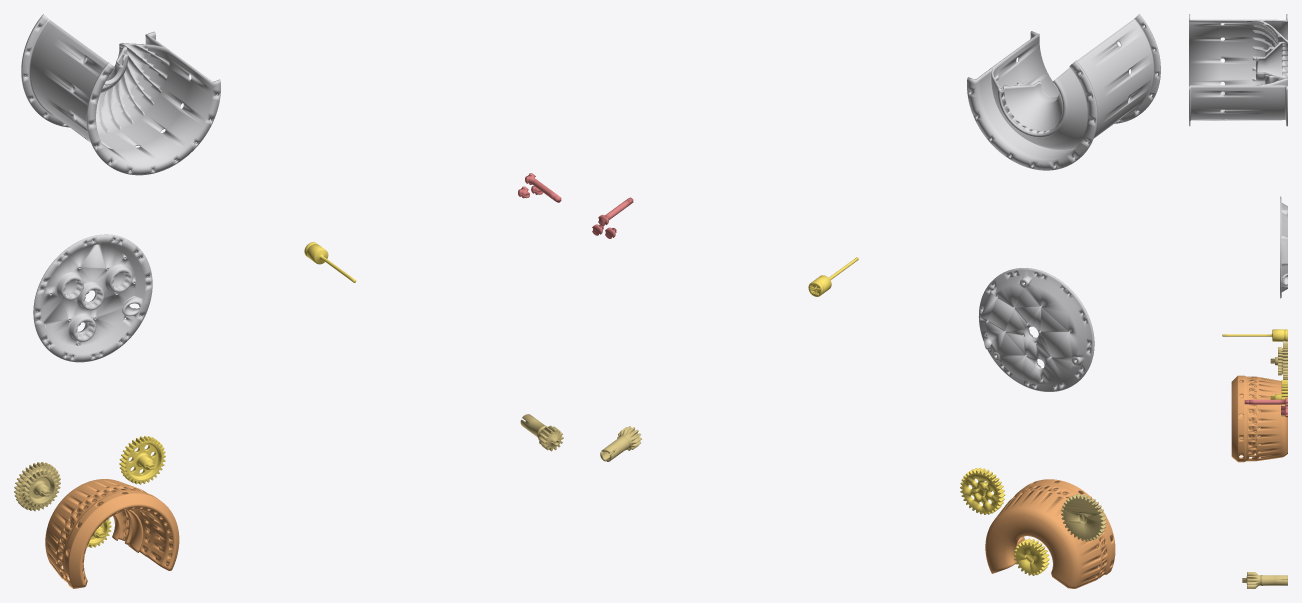
Rendered from engine_ignition_start_training.glb.
3 renders of one model, left to right at view 1: azimuth 30°, elevation 25°; view 2: azimuth 150°, elevation 25°; view 3: azimuth 270°, elevation 25°, orthographic. The views are drawn at different scales.
Visible parts, largest first — view 1: combustion_chamber_outer_context, accessory_gearbox_housing, combustion_liner_igniter_ports, accessory_drive_idler_gear, starter_generator_drive_gear, main_drive_coupling; view 2: combustion_chamber_outer_context, accessory_gearbox_housing, combustion_liner_igniter_ports, accessory_drive_idler_gear, starter_generator_drive_gear, ignition_exciter_drive_gear, main_drive_coupling; view 3: combustion_chamber_outer_context, combustion_liner_igniter_ports, accessory_gearbox_housing, main_drive_coupling, accessory_drive_idler_gear, starter_engagement_clutch, igniter_lead_upper, starter_generator_drive_gear.
Boxes of the visible parts, bbox=[...] form: combustion_chamber_outer_context: bbox=[21, 14, 220, 175]; accessory_gearbox_housing: bbox=[33, 234, 152, 362]; combustion_liner_igniter_ports: bbox=[45, 479, 179, 588]; accessory_drive_idler_gear: bbox=[14, 462, 60, 511]; starter_generator_drive_gear: bbox=[119, 436, 165, 484]; main_drive_coupling: bbox=[520, 414, 563, 451]; combustion_chamber_outer_context: bbox=[967, 14, 1160, 170]; accessory_gearbox_housing: bbox=[978, 268, 1094, 391]; combustion_liner_igniter_ports: bbox=[985, 479, 1115, 588]; accessory_drive_idler_gear: bbox=[1061, 493, 1106, 541]; starter_generator_drive_gear: bbox=[960, 467, 1005, 514]; ignition_exciter_drive_gear: bbox=[1013, 538, 1049, 575]; main_drive_coupling: bbox=[600, 426, 641, 461]; combustion_chamber_outer_context: bbox=[1189, 14, 1287, 126]; combustion_liner_igniter_ports: bbox=[1231, 375, 1287, 462]; accessory_gearbox_housing: bbox=[1280, 196, 1287, 298]; main_drive_coupling: bbox=[1242, 572, 1287, 588]; accessory_drive_idler_gear: bbox=[1270, 342, 1287, 379]; starter_engagement_clutch: bbox=[1222, 329, 1287, 341]; igniter_lead_upper: bbox=[1244, 398, 1287, 406]; starter_generator_drive_gear: bbox=[1270, 380, 1287, 416].
Size of the model in its own units: 734 by 739 by 160.
